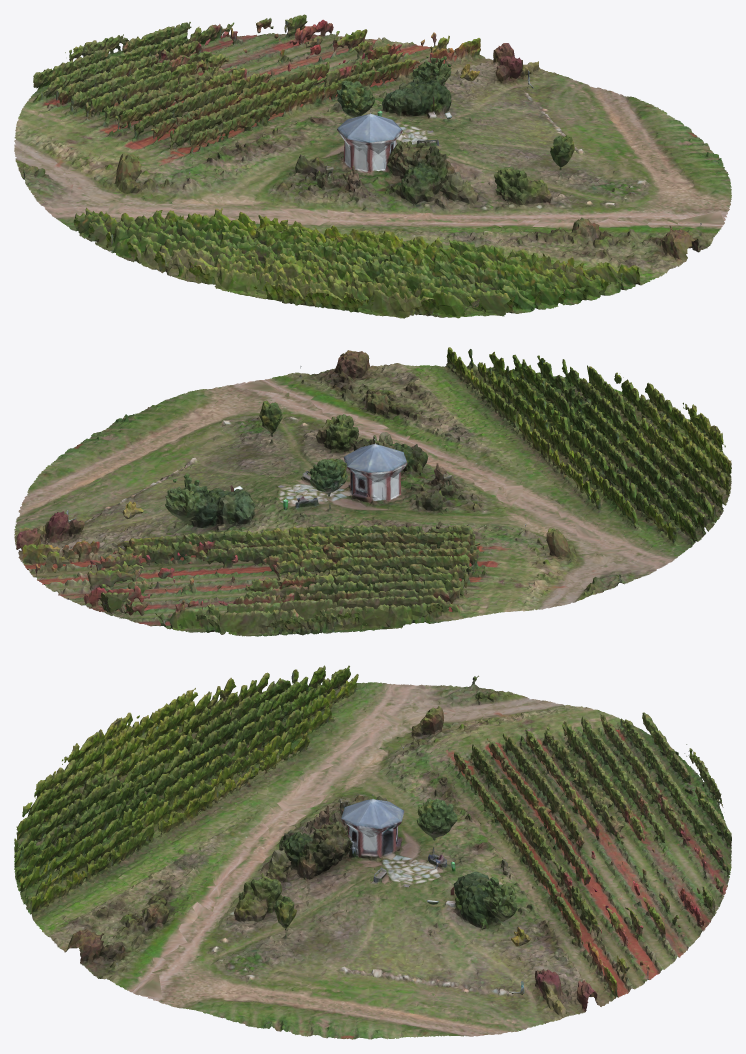
Rendered from 24107_Vineyard_Eltville-Germany.obj.
The picture shows the model from 3 angles, top to bottom: view 1: azimuth 30°, elevation 25°; view 2: azimuth 150°, elevation 25°; view 3: azimuth 270°, elevation 25°; orthographic projection.
Parts seen in each view (by area): view 1: 24107_Vineyard_Eltville-Germany; view 2: 24107_Vineyard_Eltville-Germany; view 3: 24107_Vineyard_Eltville-Germany.
Part boxes in pixels (x1,y1,x2,y2): 24107_Vineyard_Eltville-Germany: [14, 14, 731, 318]; 24107_Vineyard_Eltville-Germany: [14, 347, 731, 636]; 24107_Vineyard_Eltville-Germany: [14, 665, 731, 1039].
Size of the model in its own units: 14.17 by 2.13 by 14.17.
Materials: 1 (1 with a texture image).
